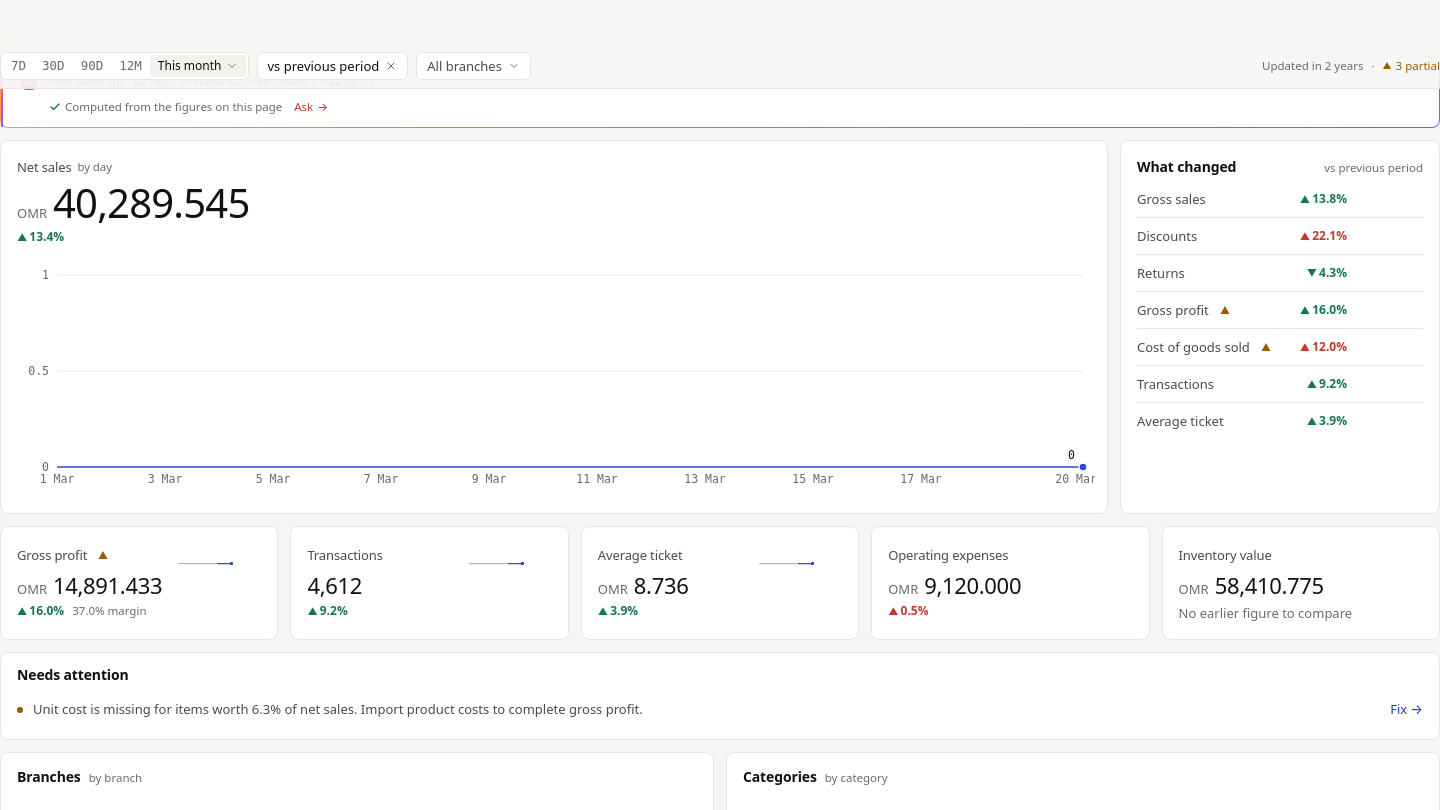
Test: dashboard states › only offers a branch-scoped viewer their own branches
Click the button with aria-label "Branches: All branches" at (474, 66), box left=416, top=52, right=531, bottom=80
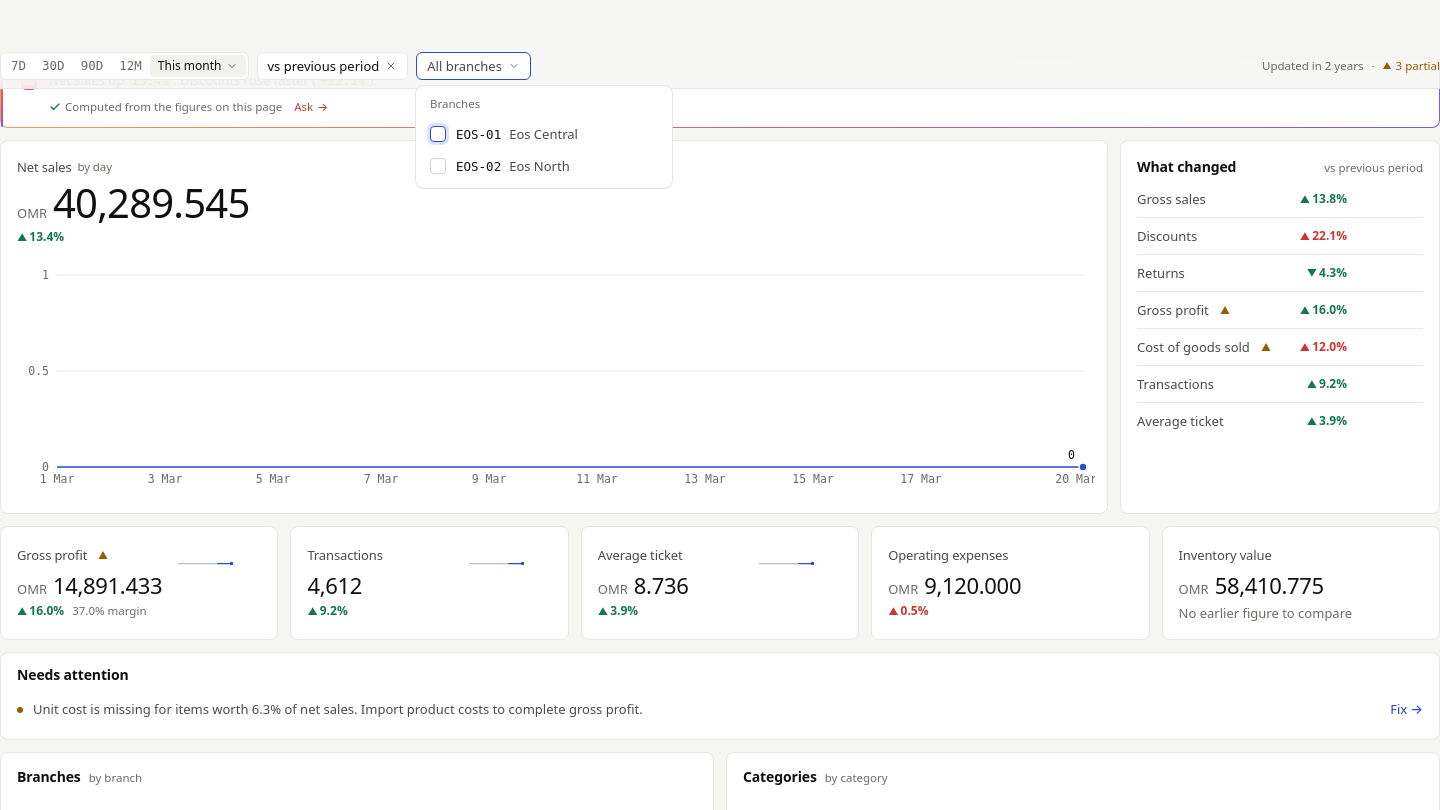
Now the checkbox named "EOS-01" next to "EOS-01" is shown, box left=430, top=126, right=446, bottom=142
Now the checkbox named "EOS-02" next to "EOS-02" is shown, box left=430, top=158, right=446, bottom=174
